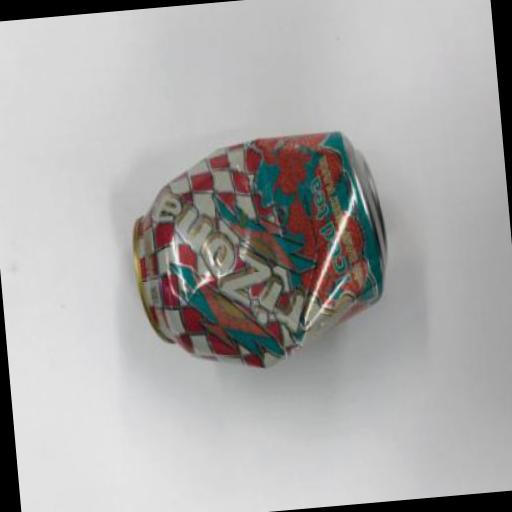metal: (122, 126, 396, 378)
